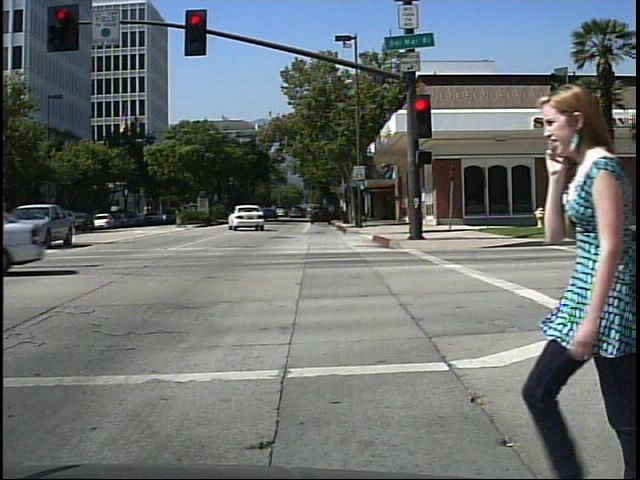person: (531, 68, 636, 480)
